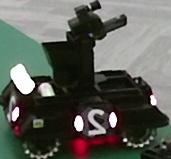armor_2: (75, 112, 117, 132)
light: (11, 64, 36, 95)
